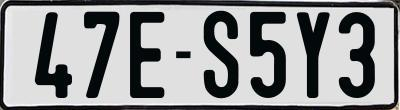3: (338, 9, 378, 96)
4: (34, 10, 77, 96)
5: (250, 9, 288, 99)
7: (81, 12, 122, 100)
E: (130, 11, 169, 99)
S: (204, 10, 241, 102)
Y: (294, 9, 328, 98)
